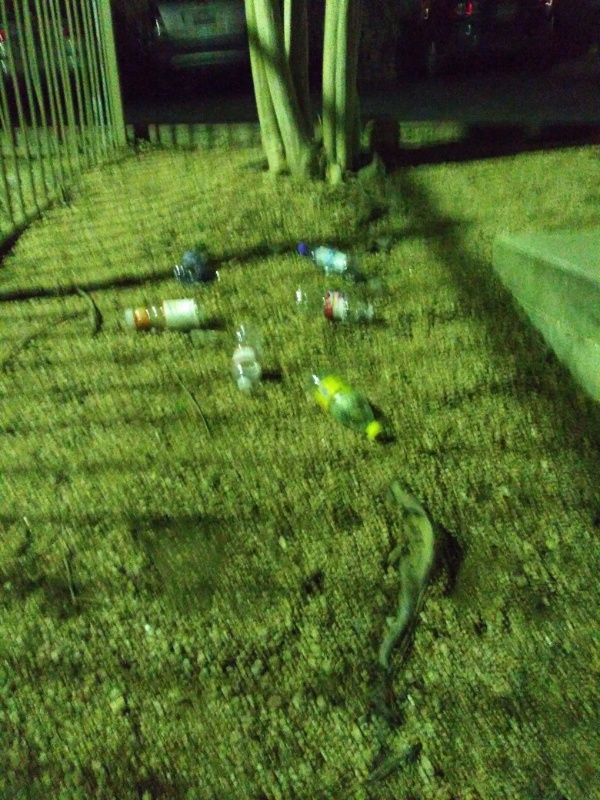bottle: (297, 363, 388, 447), (286, 283, 379, 328), (121, 293, 212, 336), (226, 319, 273, 397), (294, 236, 361, 282), (171, 237, 214, 283)
